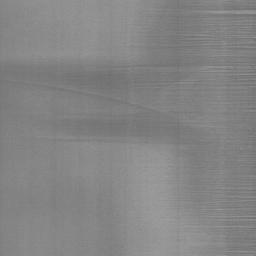Waist folding: (42, 9, 256, 129), (154, 186, 256, 253), (51, 117, 187, 146), (0, 87, 75, 93), (227, 142, 256, 151), (0, 63, 24, 65)
